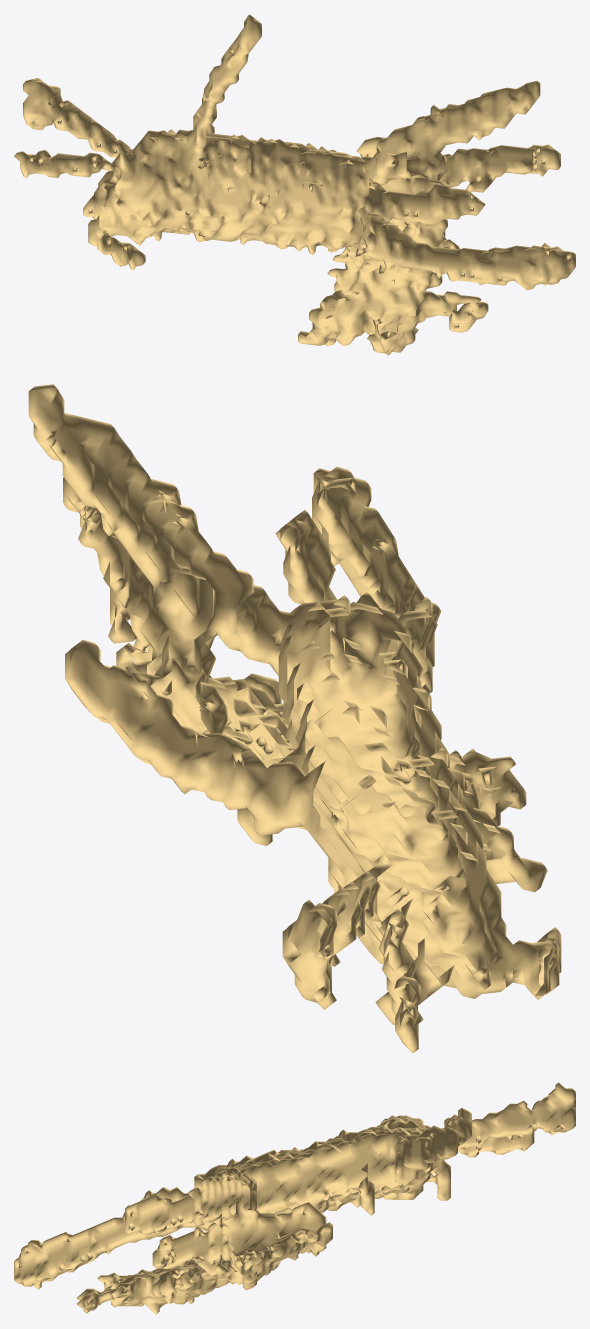
Rendered from osteocyte_55.glb.
3 renders of one model, top to bottom at view 1: azimuth 30°, elevation 25°; view 2: azimuth 150°, elevation 25°; view 3: azimuth 270°, elevation 25°, orthographic. The views are drawn at different scales.
Visible parts, largest first — view 1: osteocyte_55; view 2: osteocyte_55; view 3: osteocyte_55.
Part boxes in pixels (x1,y1,x2,y2): osteocyte_55: (14,14,575,355); osteocyte_55: (28,384,561,1053); osteocyte_55: (14,1082,575,1314).
Bounding box in the file's own units: 29.37 × 16.85 × 39.
